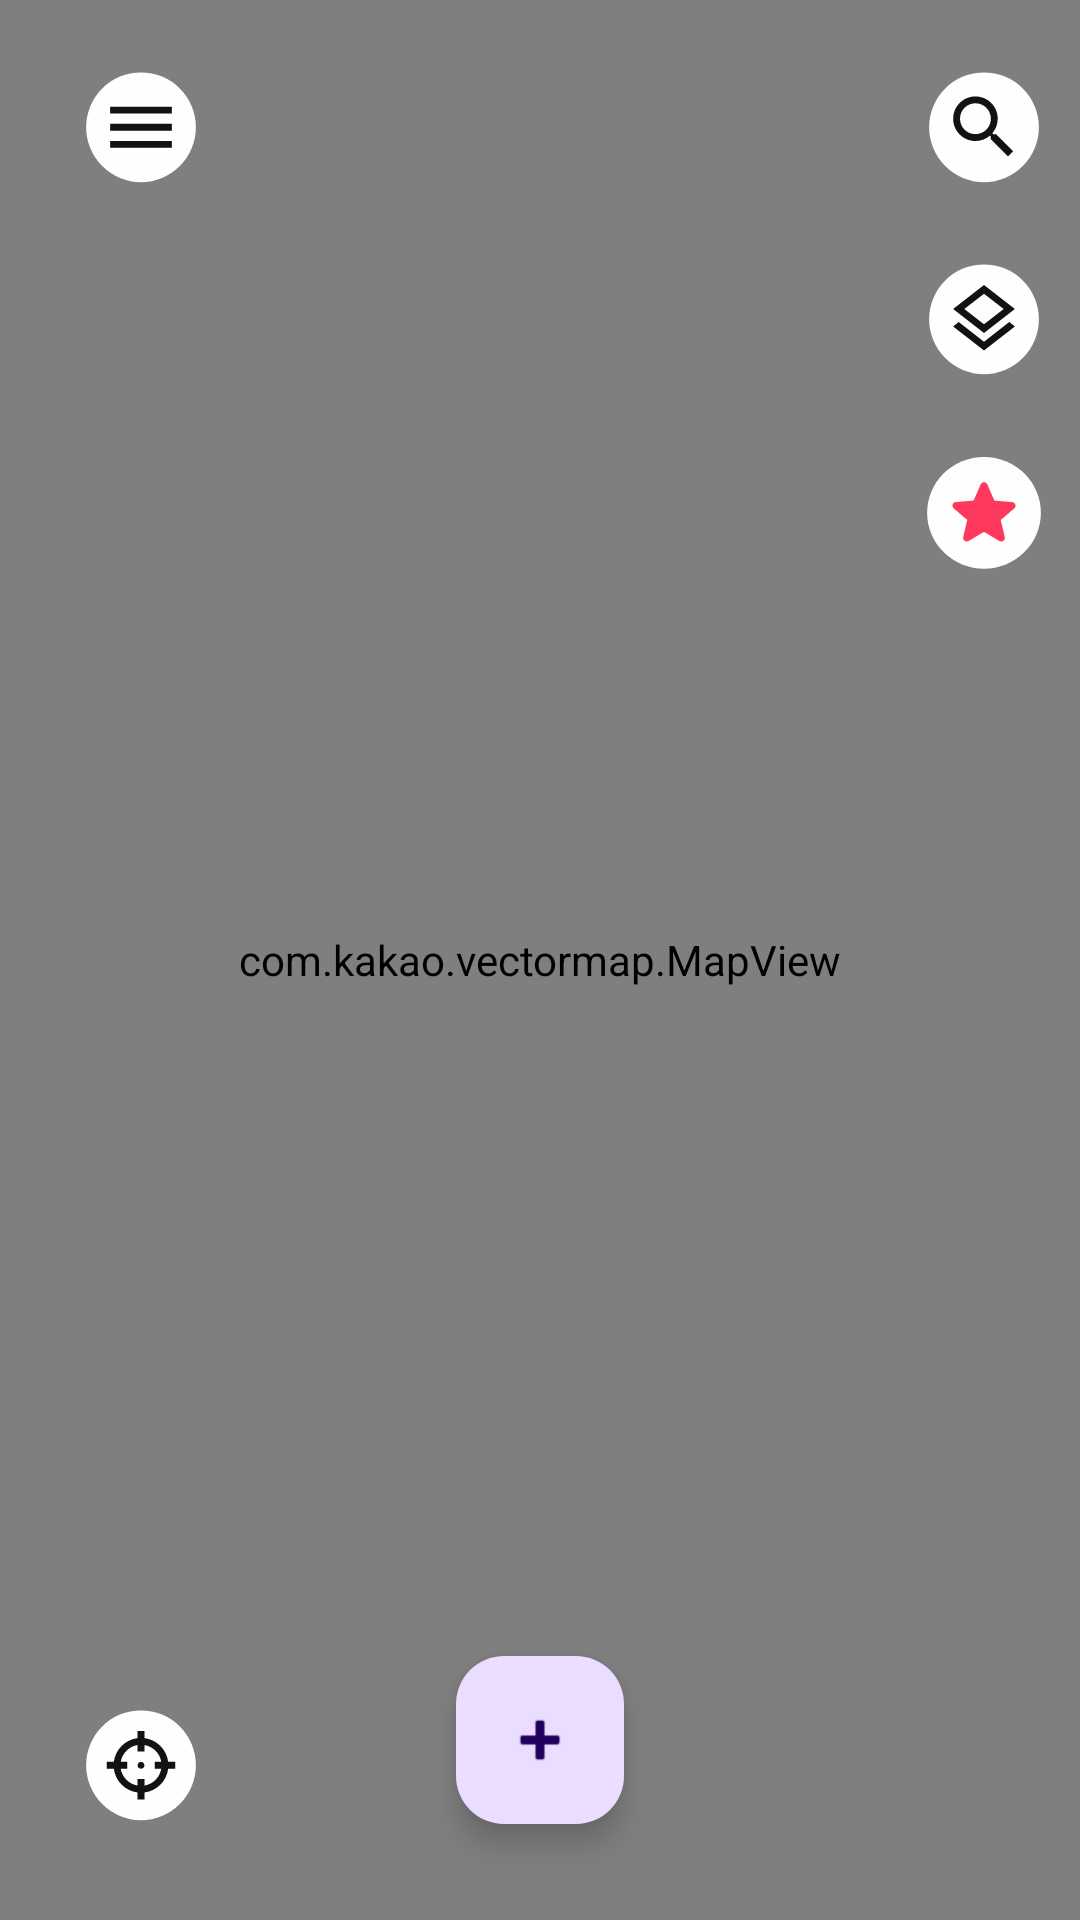

Screen size 1080px×1920px. Icon name, then its box in pixels as (x1, y1, x2, y2):
add: (456, 1656, 624, 1824)
favorite: (927, 457, 1041, 569)
location: (86, 1710, 196, 1821)
menu: (86, 72, 196, 183)
search: (929, 72, 1039, 183)
